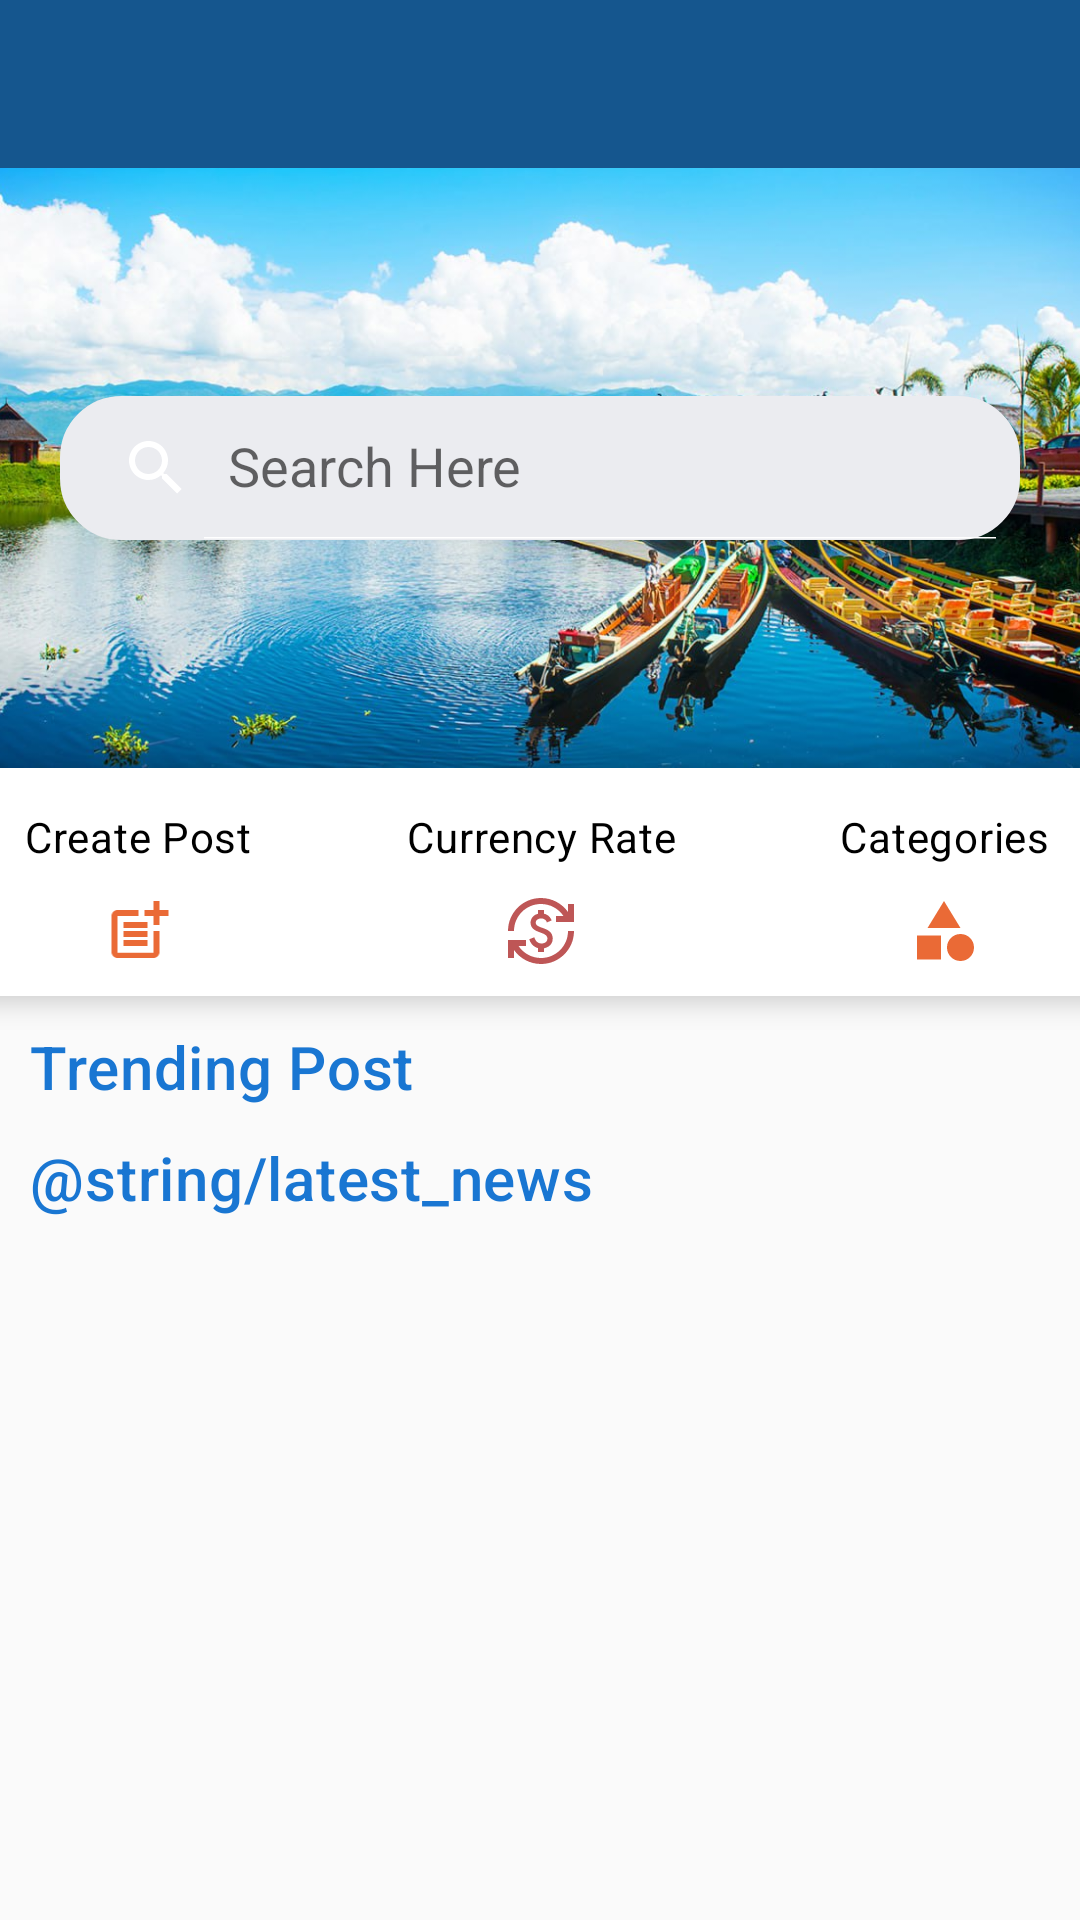

Point at icon controls on the screen. Image size 1080w x 1920h, points as (x=x, y=y).
category: (x=945, y=931)
currency exchange: (x=541, y=931)
